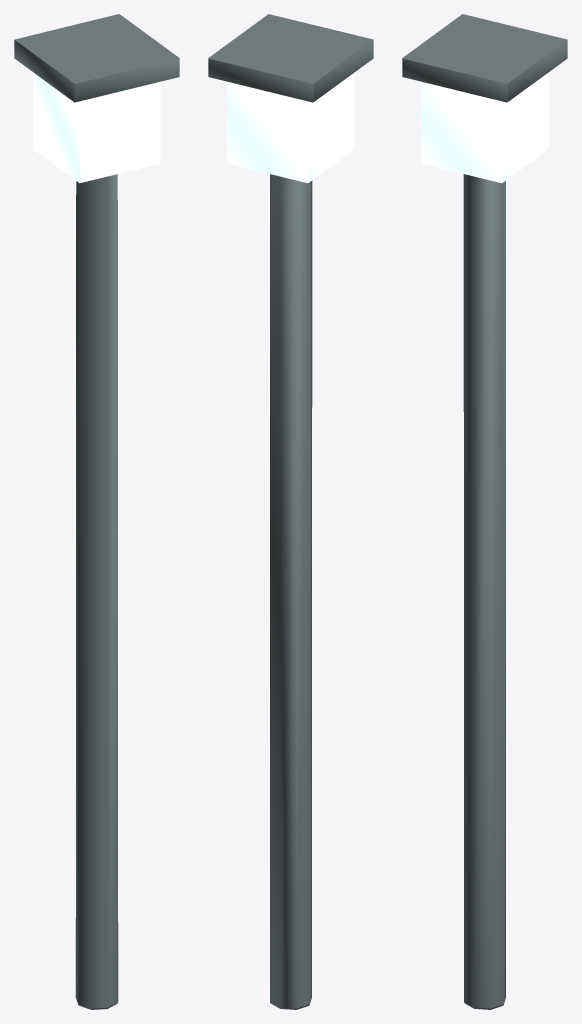
Rendered from SM_Kurpark_Lantern_LOD2.fbx.
3 renders of one model, left to right at view 1: azimuth 30°, elevation 25°; view 2: azimuth 150°, elevation 25°; view 3: azimuth 330°, elevation 25°, orthographic.
Parts seen in each view (by area): view 1: SM_Kurpark_Lantern_LOD2; view 2: SM_Kurpark_Lantern_LOD2; view 3: SM_Kurpark_Lantern_LOD2.
Part boxes in pixels (box(x1,y1,x2,y2)): SM_Kurpark_Lantern_LOD2: box(14, 14, 179, 1009); SM_Kurpark_Lantern_LOD2: box(208, 14, 373, 1009); SM_Kurpark_Lantern_LOD2: box(402, 14, 567, 1009).
Bounding box in the file's own units: 0.4357 × 3.76 × 0.4357.
